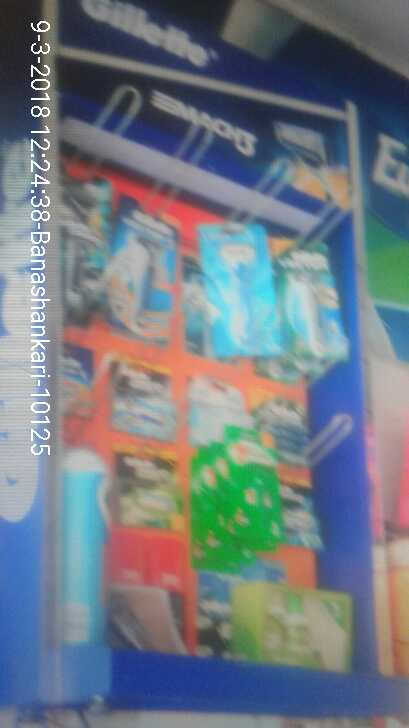gillette: (107, 196, 187, 336), (272, 234, 352, 362)
